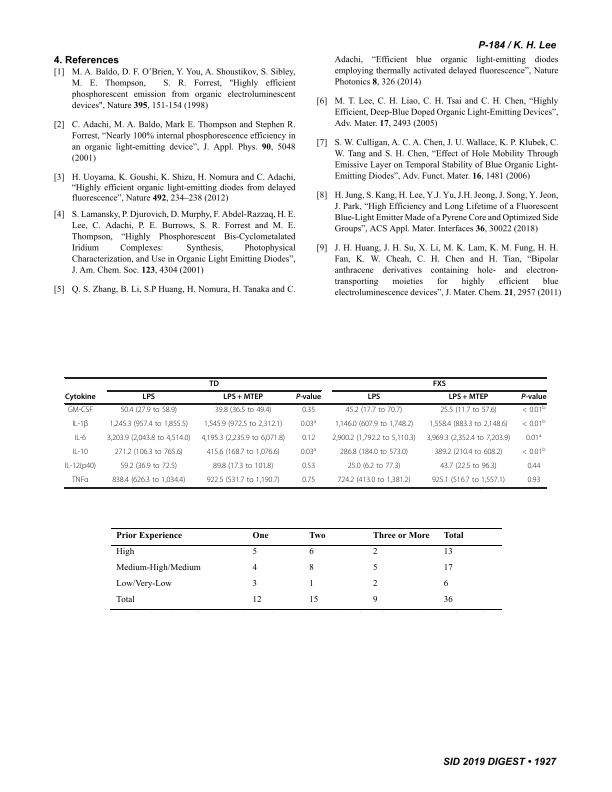borderless: (63, 376, 546, 487), (110, 526, 502, 609)
cell: (200, 434, 286, 444), (331, 434, 417, 444), (115, 563, 201, 573), (106, 434, 191, 444), (426, 434, 511, 444), (109, 420, 189, 430), (203, 420, 283, 430), (334, 420, 414, 430), (428, 420, 508, 430), (206, 448, 281, 458), (111, 476, 186, 486), (206, 476, 281, 486), (336, 476, 411, 486), (431, 476, 506, 486), (114, 448, 184, 458), (339, 448, 409, 458), (433, 448, 503, 458), (115, 530, 182, 540), (212, 462, 274, 472), (119, 406, 178, 416), (439, 406, 498, 416), (119, 462, 178, 472), (439, 462, 498, 472), (371, 530, 430, 540), (214, 406, 272, 416), (345, 406, 403, 416), (115, 579, 172, 589), (347, 462, 401, 472), (222, 393, 264, 403), (448, 393, 489, 403), (64, 462, 97, 472), (64, 393, 96, 403), (521, 405, 546, 416), (521, 419, 546, 430), (521, 447, 546, 458), (295, 393, 322, 403), (520, 393, 547, 403), (67, 406, 94, 416), (442, 530, 464, 540), (115, 547, 135, 557), (115, 595, 135, 605), (300, 419, 317, 430), (525, 433, 542, 444), (300, 447, 317, 458), (71, 420, 89, 430), (71, 476, 89, 486), (251, 530, 269, 540), (308, 530, 326, 540), (72, 448, 89, 458), (141, 393, 156, 403), (301, 406, 316, 416), (301, 434, 316, 444), (301, 462, 316, 472), (526, 462, 541, 472), (301, 476, 316, 486), (526, 476, 541, 486), (367, 393, 381, 403), (73, 434, 87, 444), (432, 380, 447, 389), (442, 547, 453, 557), (442, 563, 453, 573), (251, 595, 262, 605), (308, 595, 319, 605), (442, 595, 453, 605), (208, 380, 220, 389), (371, 547, 378, 557), (371, 563, 378, 573), (371, 579, 378, 589), (442, 579, 449, 589), (371, 595, 378, 605), (251, 547, 257, 557), (308, 547, 314, 557), (251, 563, 257, 573), (308, 563, 314, 573), (251, 579, 257, 589), (308, 579, 314, 589)
